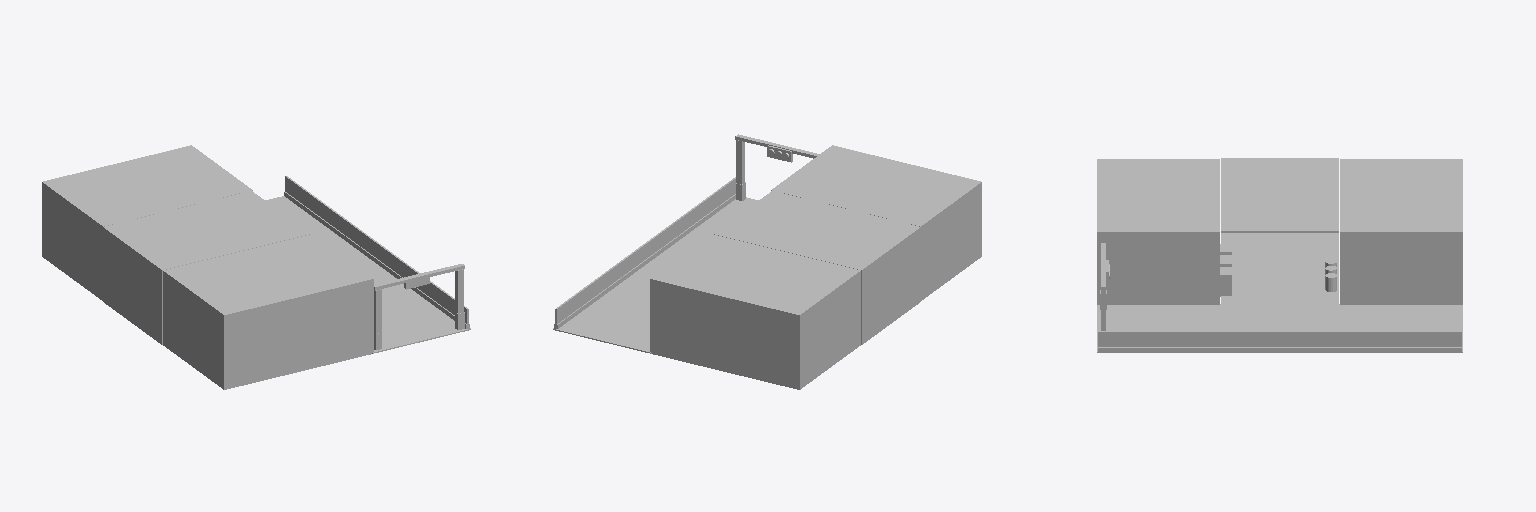
File: Garage.obj
3 renders of one model, left to right at view 1: azimuth 30°, elevation 25°; view 2: azimuth 150°, elevation 25°; view 3: azimuth 270°, elevation 25°, orthographic.
Visible parts, largest first — view 1: pasted__pCube36; view 2: pasted__pCube36; view 3: pasted__pCube36.
Boxes of the visible parts, x1,y1,x2,y2 form: pasted__pCube36: [42, 145, 470, 389]; pasted__pCube36: [553, 134, 981, 389]; pasted__pCube36: [1097, 158, 1462, 352].
Size of the model in its own units: 14.13 by 4.1 by 18.13.